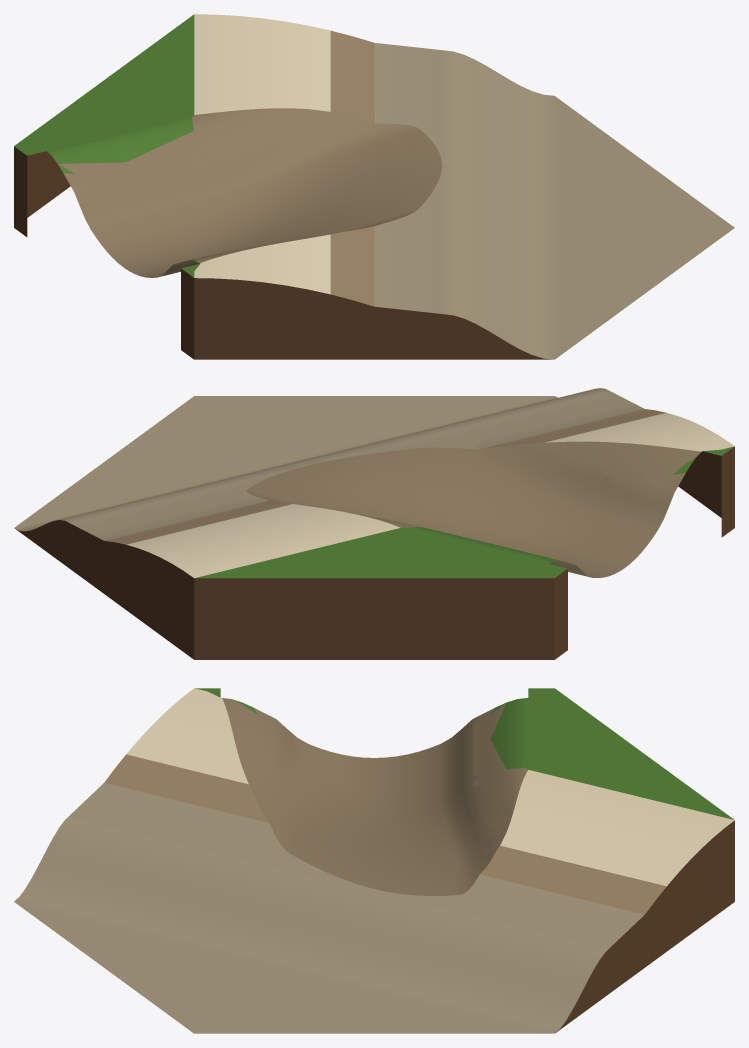
Rendered from river_mouth_base.glb.
3 renders of one model, top to bottom at view 1: azimuth 30°, elevation 25°; view 2: azimuth 150°, elevation 25°; view 3: azimuth 270°, elevation 25°, orthographic.
Parts seen in each view (by area): view 1: river_mouth_base_lod0; view 2: river_mouth_base_lod0; view 3: river_mouth_base_lod0.
Part boxes in pixels (x1,y1,x2,y2): river_mouth_base_lod0: (14, 14, 734, 359); river_mouth_base_lod0: (14, 388, 734, 659); river_mouth_base_lod0: (14, 688, 734, 1033).
Size of what is drawn, in the model's own units: 27.71 by 4 by 32.
